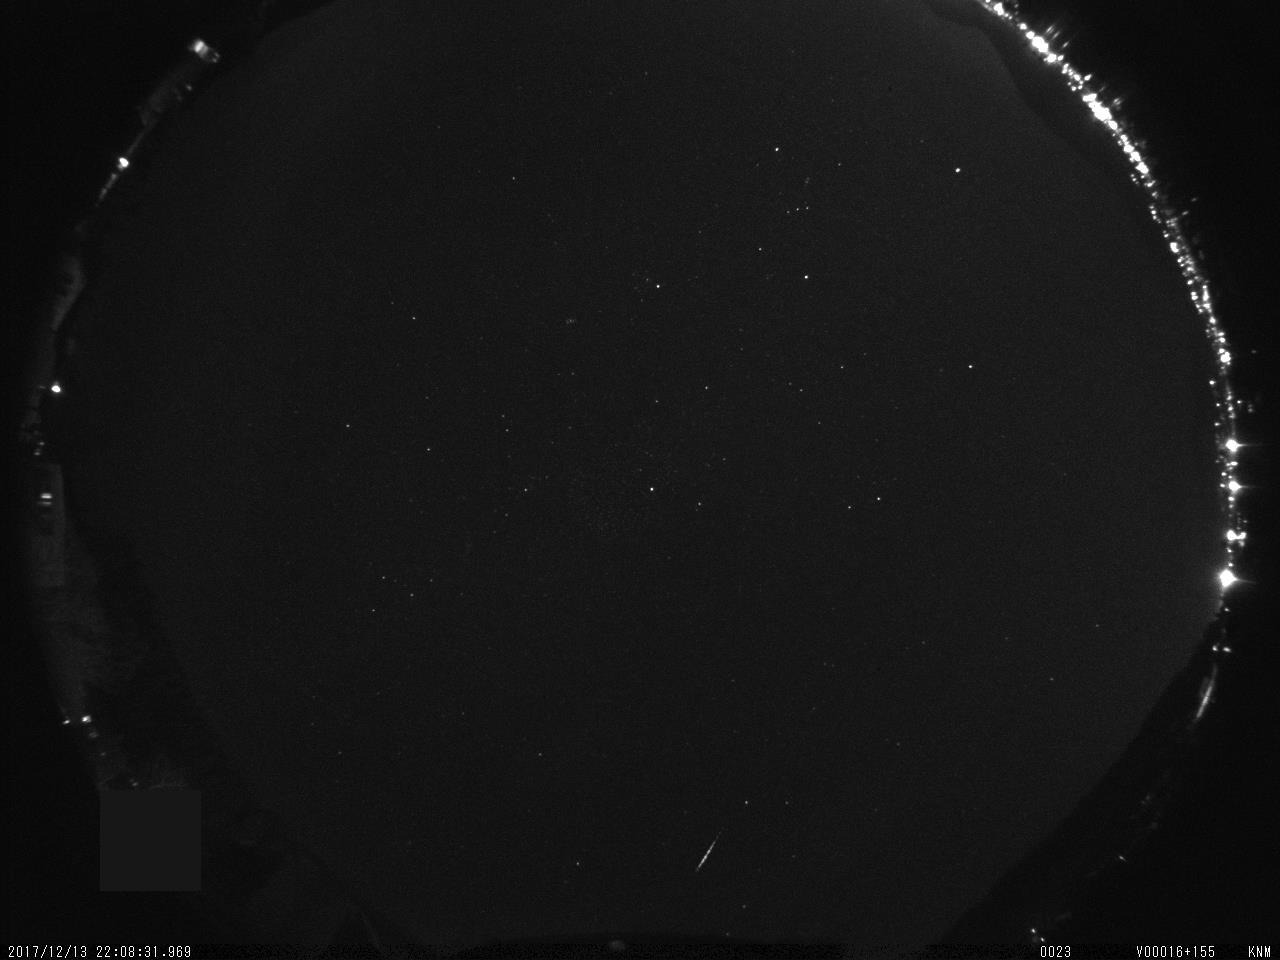meteor: (680, 831, 729, 880)
